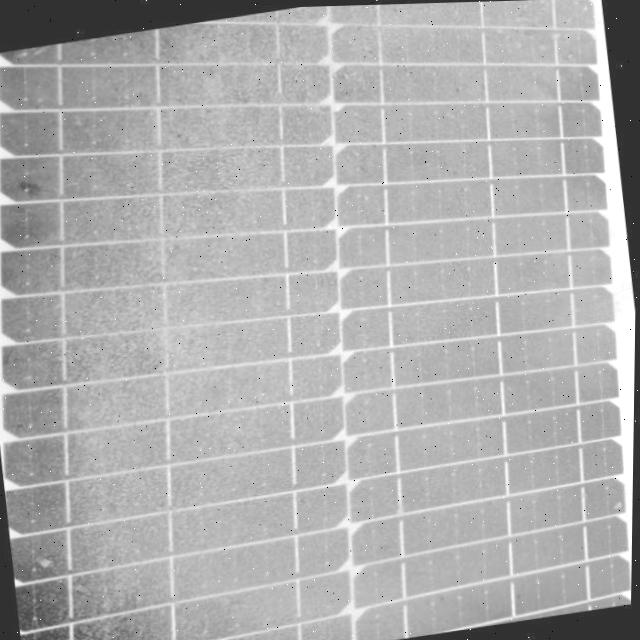Surface Contaminant: (0, 0, 633, 640)
